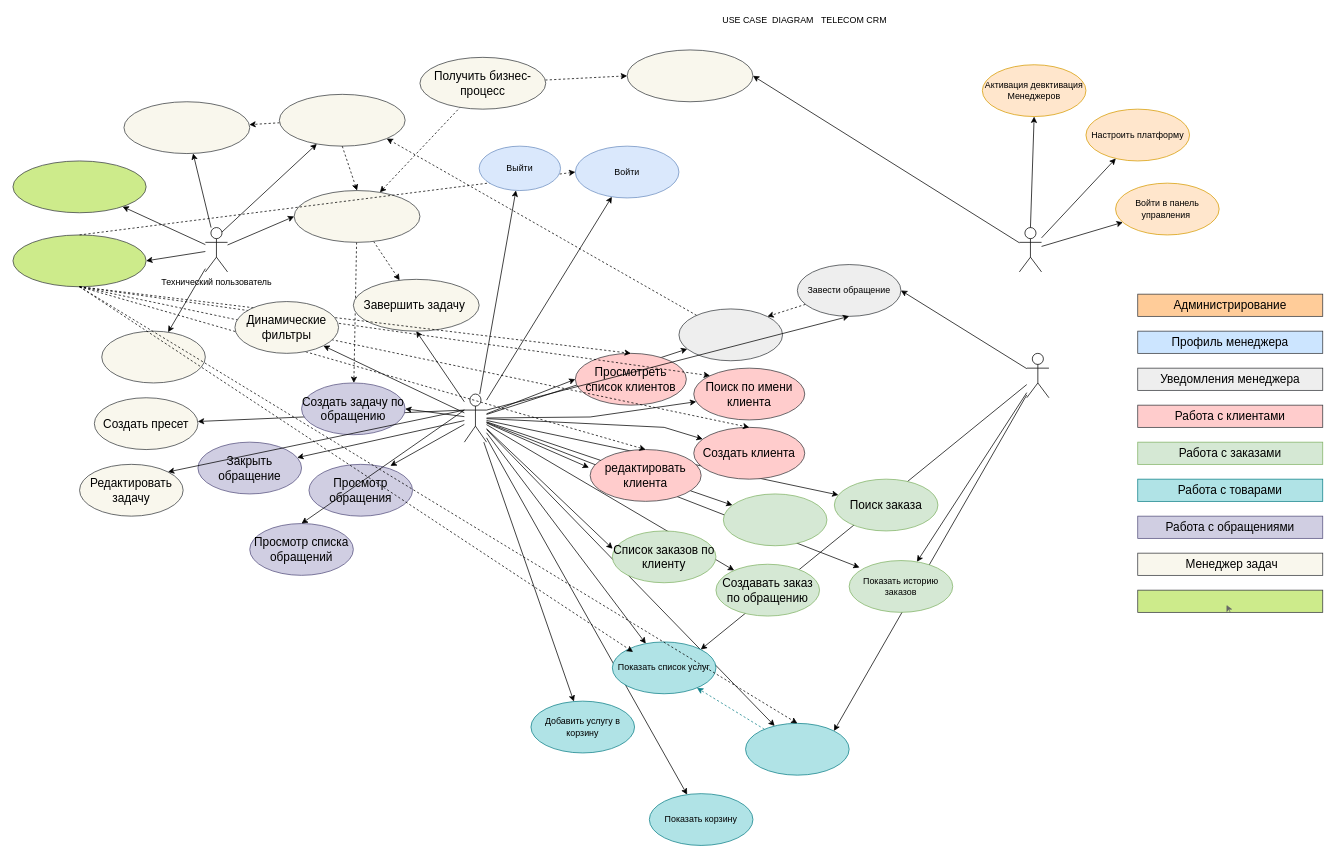
This 1336x858 diagram has some shape labels left out. The shapes that lost their labels are listed below. From the top down, each one's box as (x1, y1, x2, y2) in pixels, then its label:
(626, 49, 753, 102): Создать бизнес-процесс
(123, 101, 250, 154): Закрыть задачу
(279, 94, 405, 146): Написать уведомление медеджеру/клиенту
(12, 160, 146, 213): Предоставить API внешней системе
(293, 190, 420, 242): Создать на доске задачу
(12, 234, 146, 287): Интегрирация с внешней системой
(1019, 227, 1042, 272): Админ
(678, 308, 783, 361): Уведомления
(101, 330, 205, 383): Создать доску
(1026, 353, 1049, 398): Клиент
(464, 393, 487, 442): Менеджер
(723, 493, 827, 546): Просмотреть список заказов
(1137, 589, 1323, 612): Интеграции входящая/исходящая
(745, 723, 849, 775): Показать каталог
